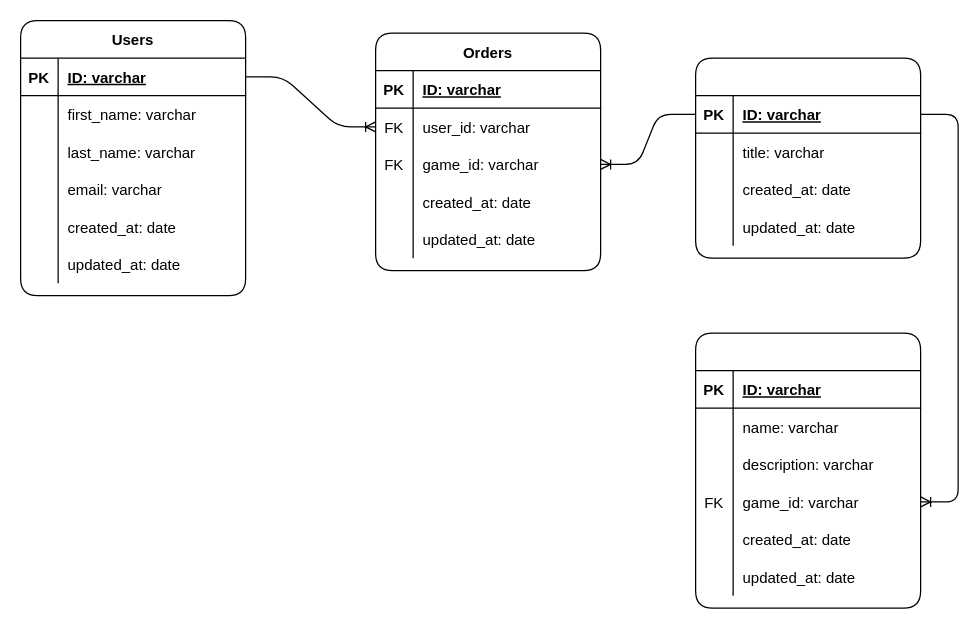
Image size: 979x629. Some labels were removed from this diagram. Each missing label, with the box of its shape:
Games: (694, 57, 921, 258)
Genres: (694, 332, 921, 608)
